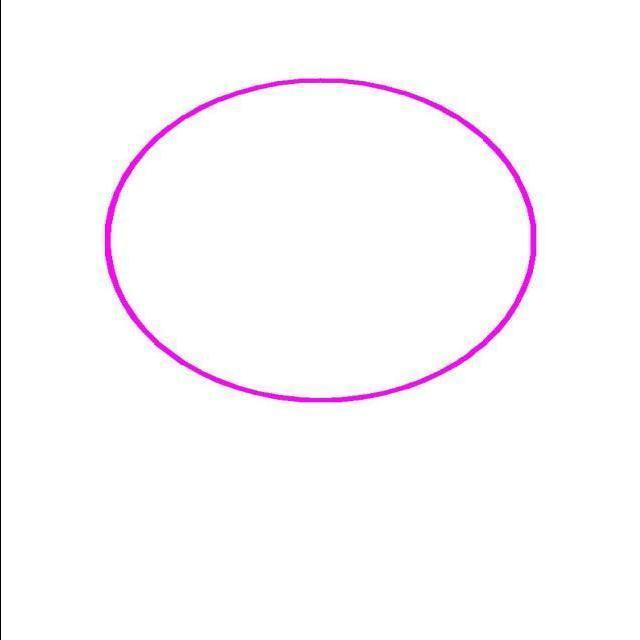Circle: (97, 67, 548, 410)
